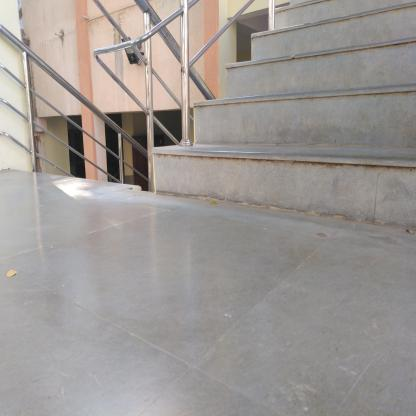stairs: (279, 3, 415, 238)
